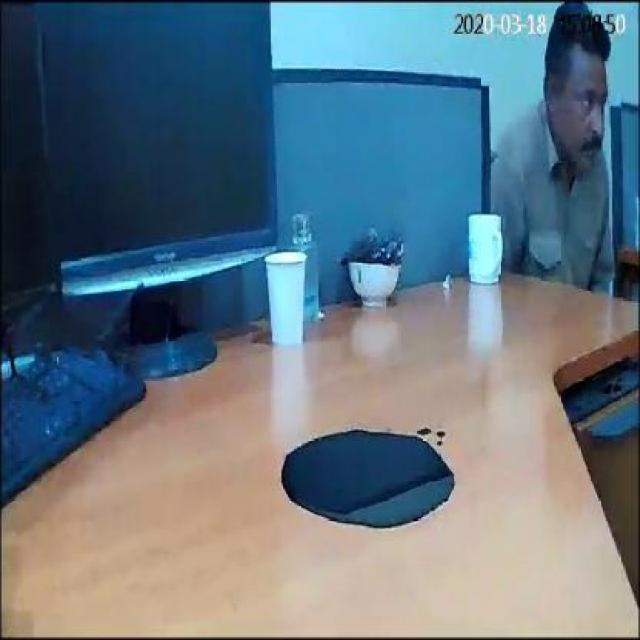spill: (274, 430, 454, 526)
